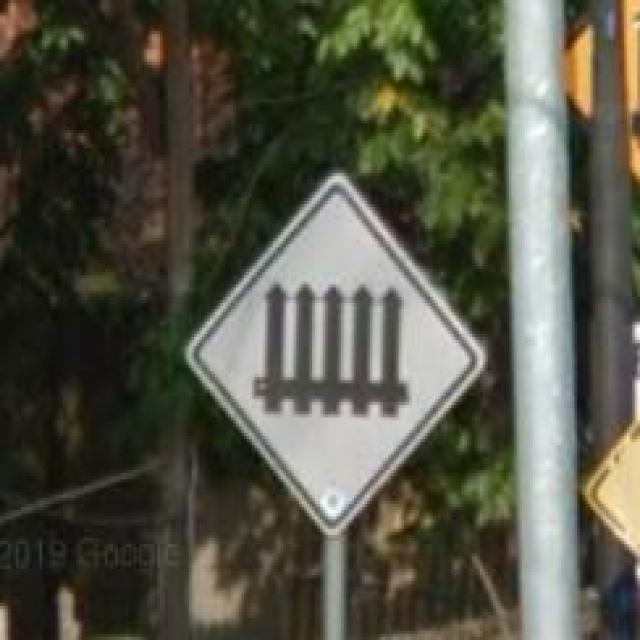traffic sign: (202, 186, 475, 523)
